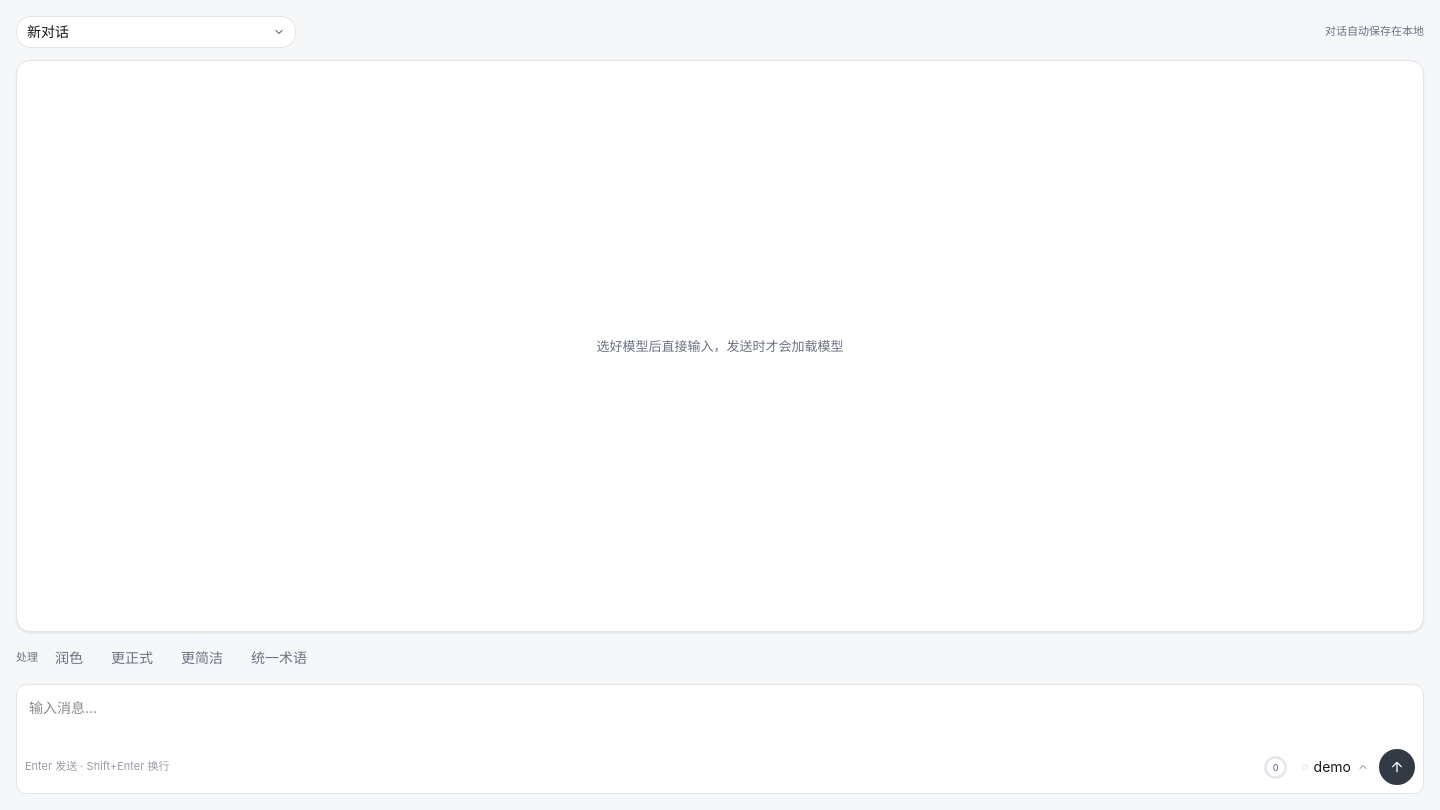
Chat › 不选快捷指令就不拼接任何指令
The image size is (1440, 810).
Check: the button named "发送" is enabled, box x1=1379 y1=749 x2=1415 y2=785
Type "普通提问" into the text box with placeholder "输入消息…" at [720, 719], box x1=25 y1=693 x2=1415 y2=745
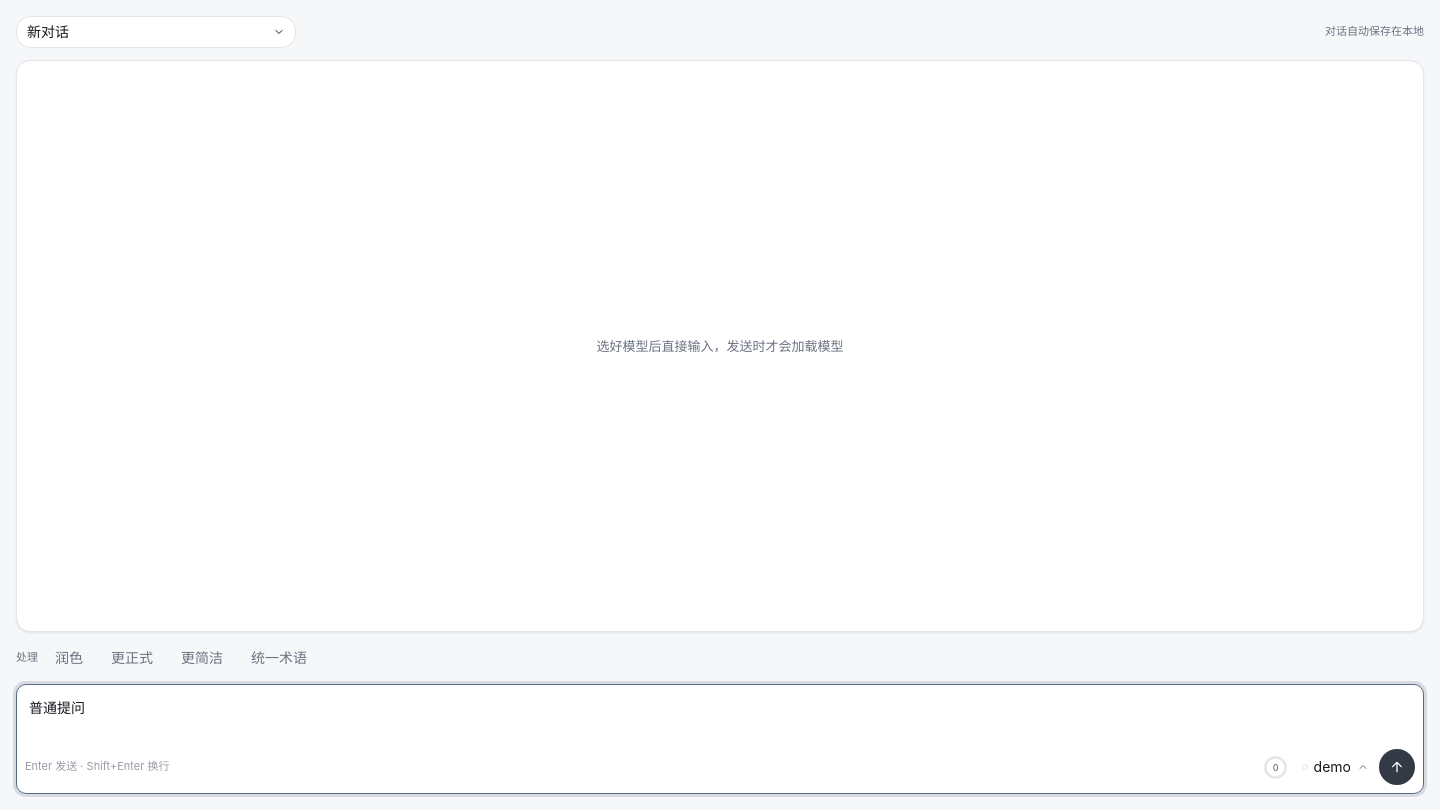
Press Enter
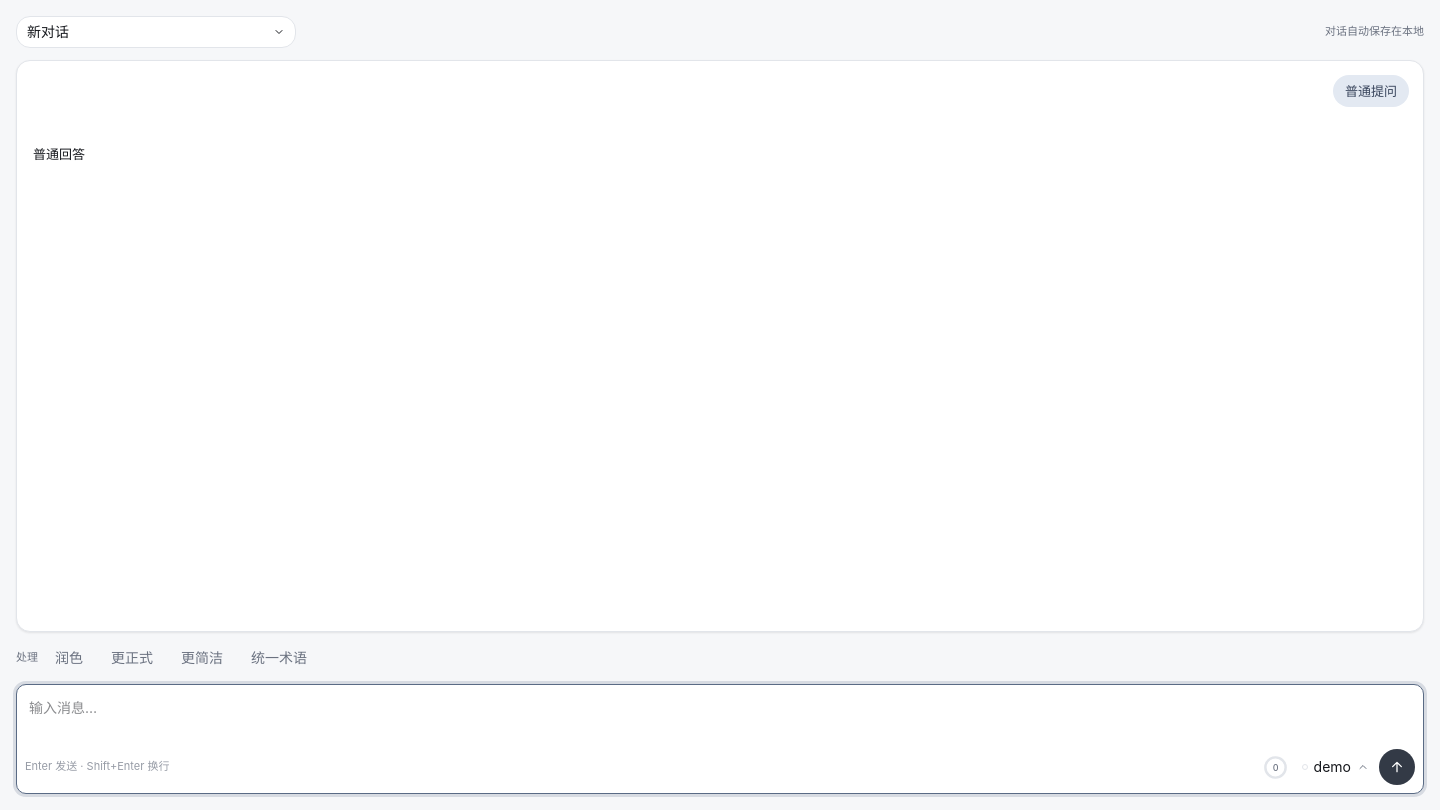
Check: the text "普通回答" is shown, box x1=31 y1=144 x2=87 y2=165
Check: the text "普通提问" is shown, box x1=1333 y1=75 x2=1409 y2=107
